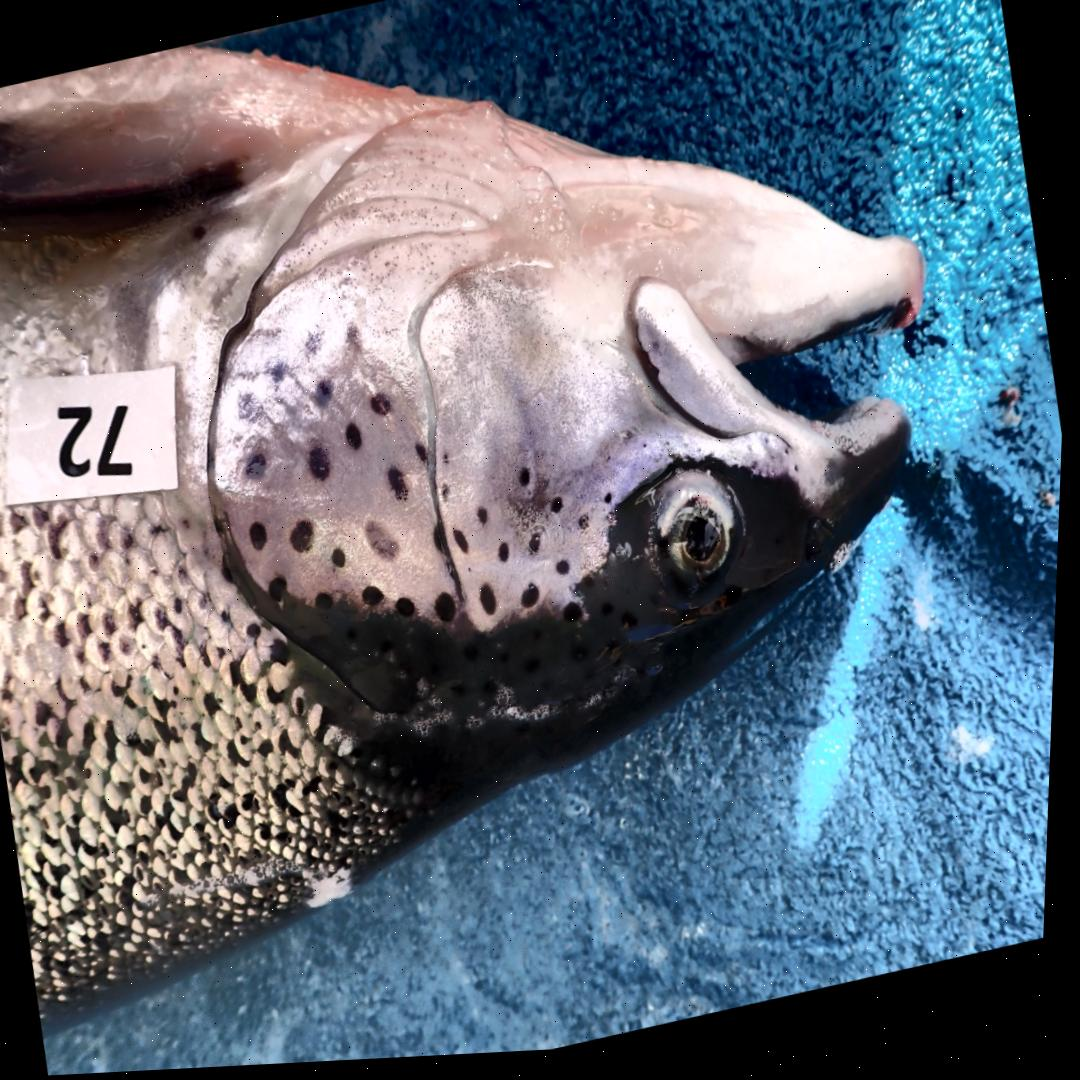spot: (368, 523, 403, 564), (389, 469, 412, 505), (292, 523, 317, 556), (311, 449, 333, 483), (437, 596, 460, 627), (248, 454, 269, 482), (317, 381, 335, 411), (483, 589, 500, 620), (365, 588, 387, 611), (252, 524, 270, 551), (372, 396, 393, 419), (347, 426, 364, 454), (524, 588, 543, 613), (272, 578, 290, 604), (567, 607, 588, 628), (240, 393, 255, 422), (399, 601, 418, 621), (456, 534, 471, 559), (306, 335, 322, 357), (319, 595, 337, 614), (334, 551, 349, 572), (436, 530, 447, 557), (416, 446, 430, 466), (531, 538, 544, 559), (347, 327, 360, 346), (521, 472, 533, 491), (274, 365, 286, 384), (501, 547, 513, 565), (479, 511, 491, 529), (553, 501, 565, 519), (581, 518, 593, 536), (559, 566, 573, 581), (445, 488, 452, 506), (607, 499, 616, 510), (446, 456, 452, 467)
